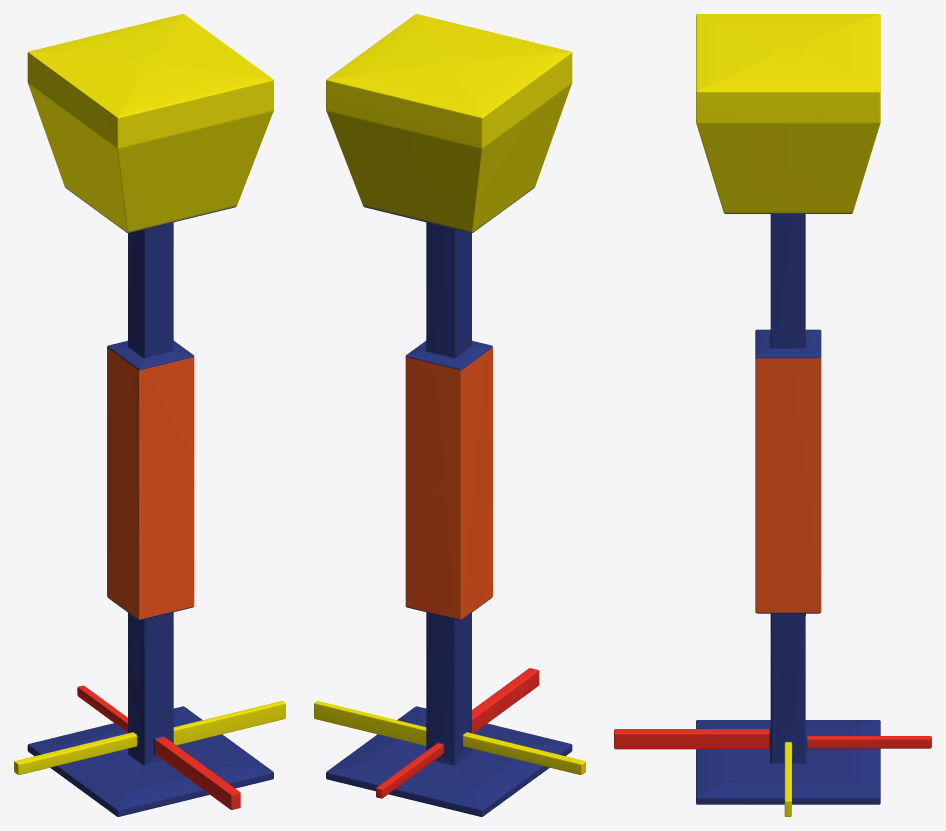
The model's file is Obstacle2.fbx.
3 views of the same model, side by side, from view 1: azimuth 30°, elevation 25°; view 2: azimuth 150°, elevation 25°; view 3: azimuth 270°, elevation 25° (orthographic).
Parts seen in each view (by area): view 1: Obstacle2; view 2: Obstacle2; view 3: Obstacle2.
Part boxes in pixels (x1=…): Obstacle2: x1=14, y1=14, x2=285, y2=816; Obstacle2: x1=314, y1=14, x2=585, y2=816; Obstacle2: x1=614, y1=14, x2=931, y2=816.
Bounding box in the file's own units: 90.41 × 226 × 90.77.
